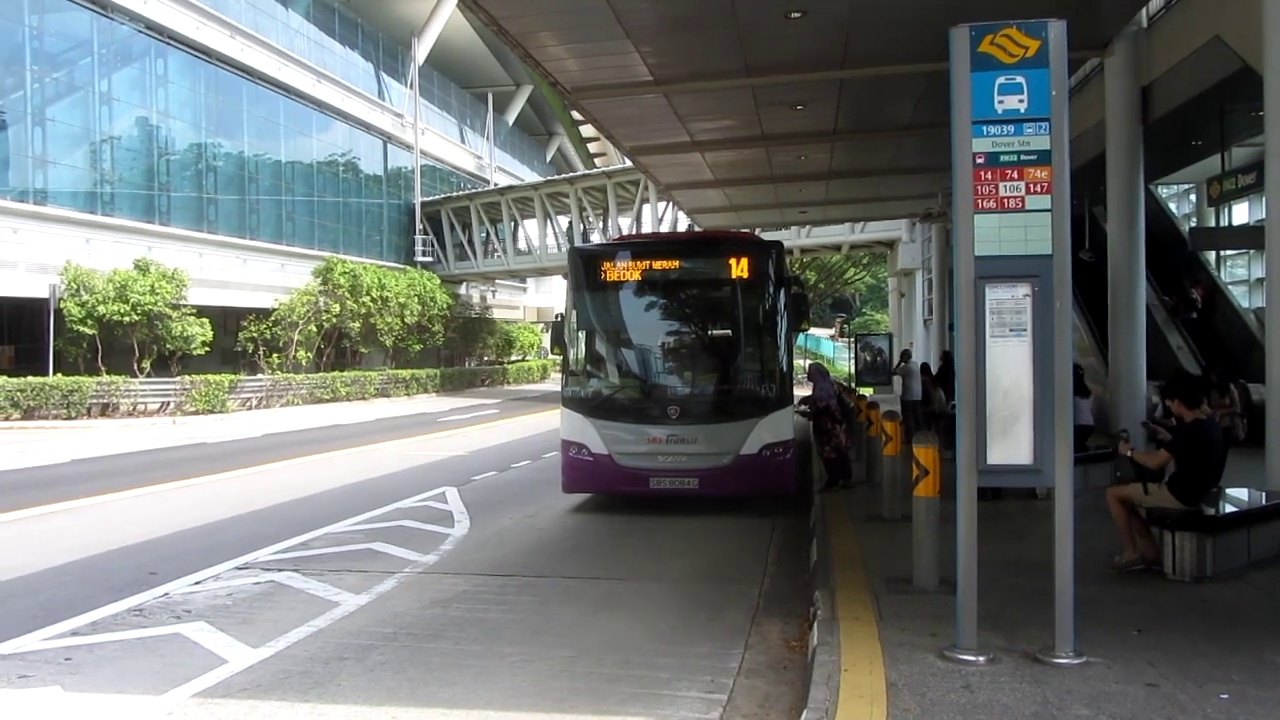bus panel: (597, 255, 753, 283)
